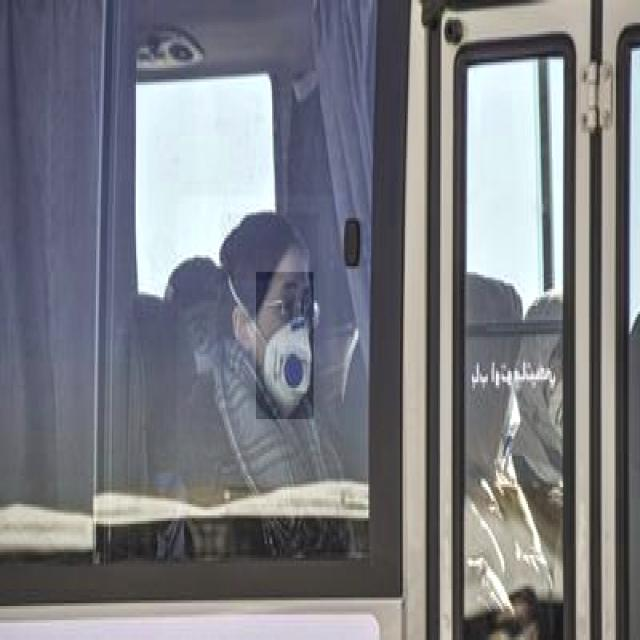face_mask: (256, 272, 314, 419)
glasses: (277, 292, 323, 331)
head_nohelmet: (221, 212, 320, 284)
person: (178, 196, 338, 518)
